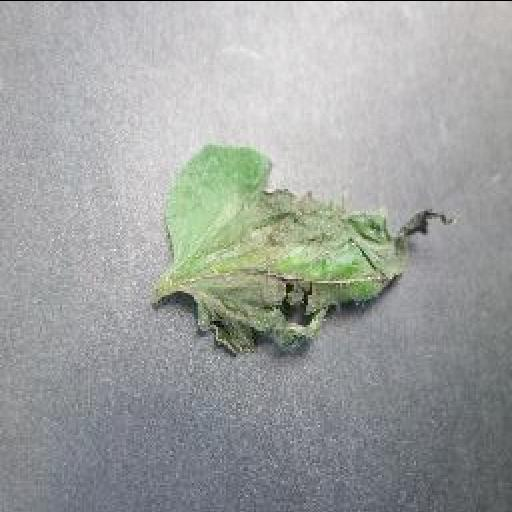disease_tomato: (160, 140, 460, 368)
